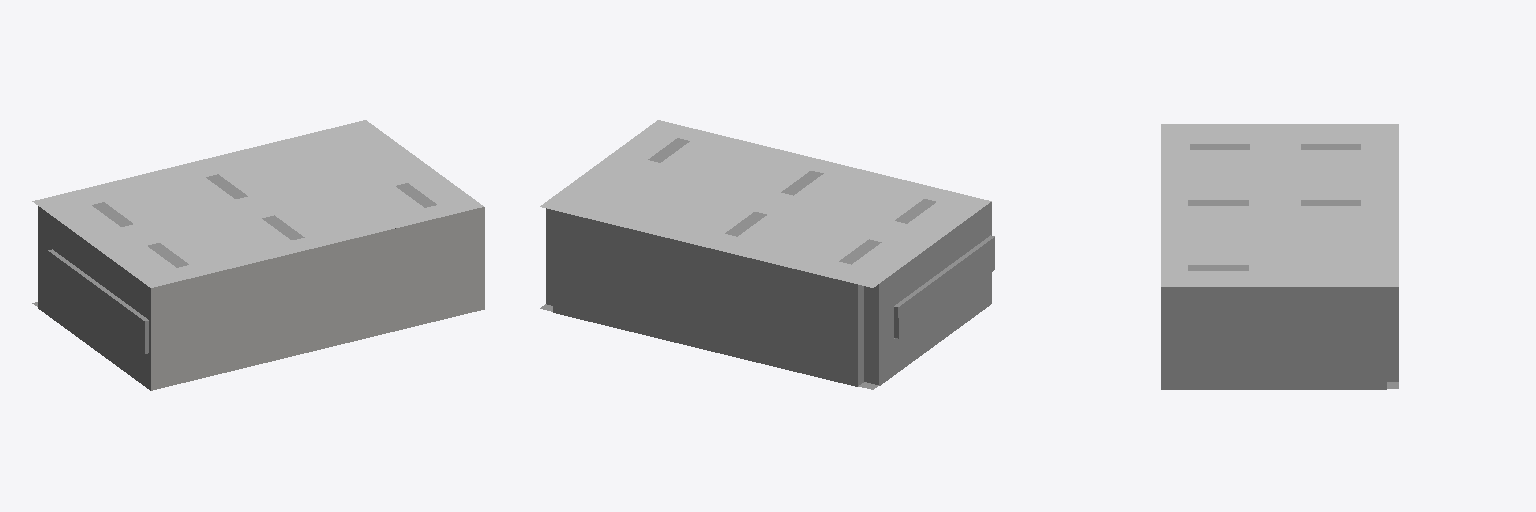
File: lab.obj
3 renders of one model, left to right at view 1: azimuth 30°, elevation 25°; view 2: azimuth 150°, elevation 25°; view 3: azimuth 270°, elevation 25°, orthographic.
Parts seen in each view (by area): view 1: ceilingHoles_ID1131, southWall_ID1223, westWall_ID1173, window_ID1209; view 2: ceilingHoles_ID1131, northWall_ID1196, westWall_ID1173, window_ID1209, eastWall_ID1150; view 3: ceilingHoles_ID1131, eastWall_ID1150.
Boxes of the visible parts, <box> form: ceilingHoles_ID1131: <box>39,123,483,287</box>; southWall_ID1223: <box>151,207,484,390</box>; westWall_ID1173: <box>38,206,150,390</box>; window_ID1209: <box>48,249,148,353</box>; ceilingHoles_ID1131: <box>546,120,991,283</box>; northWall_ID1196: <box>553,210,857,386</box>; westWall_ID1173: <box>858,202,991,385</box>; window_ID1209: <box>894,235,994,338</box>; eastWall_ID1150: <box>546,208,552,305</box>; ceilingHoles_ID1131: <box>1161,124,1398,286</box>; eastWall_ID1150: <box>1161,287,1398,389</box>.
Size of the model in its own units: 9.27 by 2.69 by 5.63.